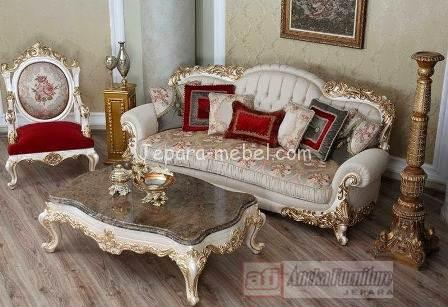Carving Chair: (142, 59, 391, 198), (10, 45, 105, 177)
Carving Table: (50, 167, 261, 300)
